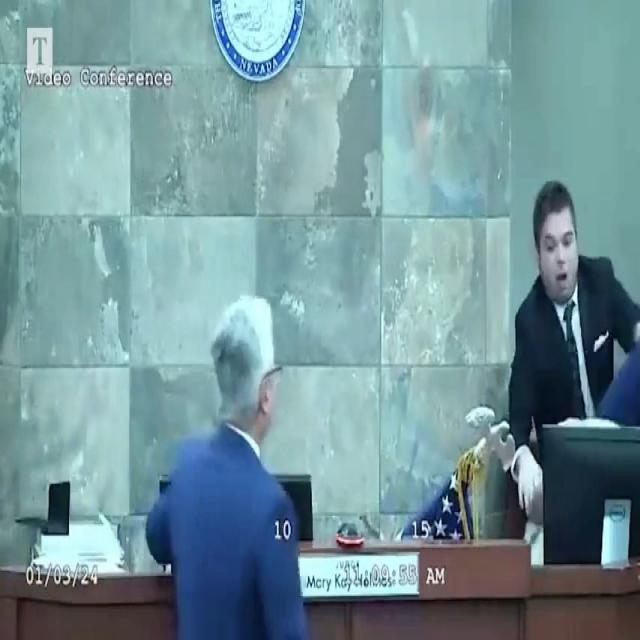fight: (509, 170, 640, 522)
non-fight: (143, 292, 314, 640)
